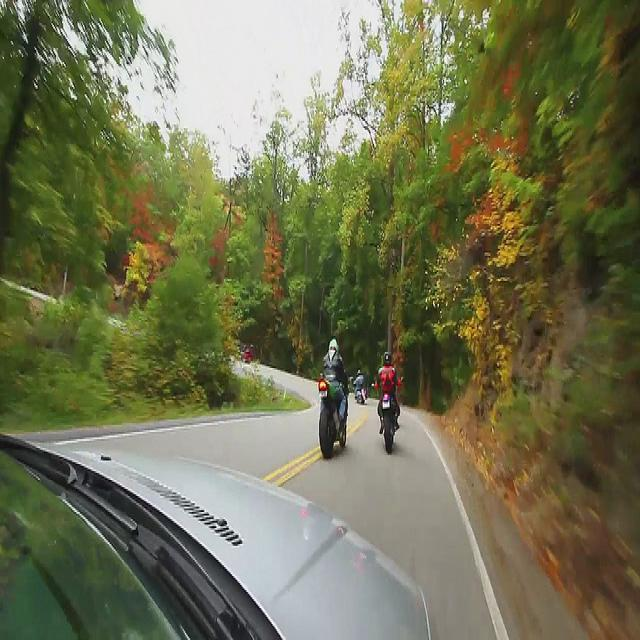motor: (319, 376, 347, 458), (382, 393, 397, 456), (356, 388, 365, 403)
